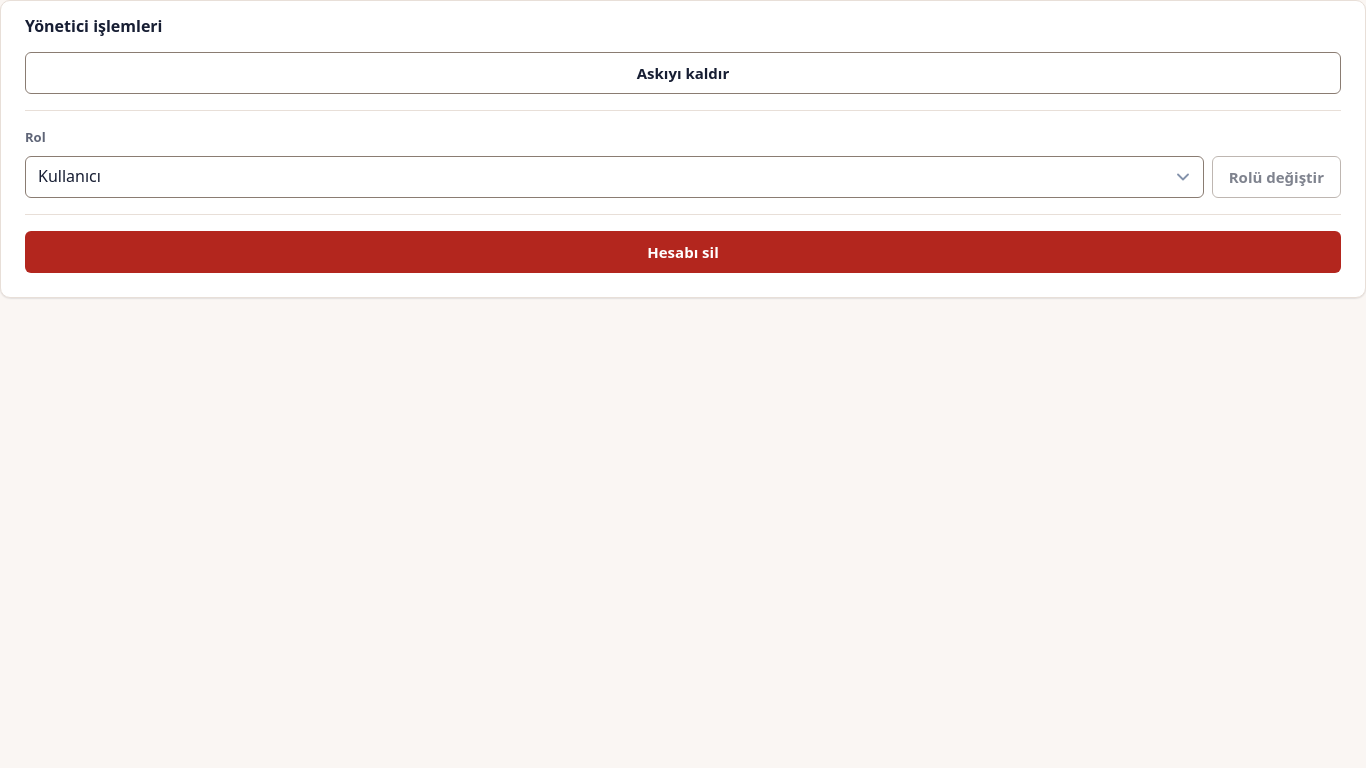
Test: UserActions › askıdaki hesap onayla geri açılır
Click the button "Askıyı kaldır": point(683, 73) [25,52,1341,94]
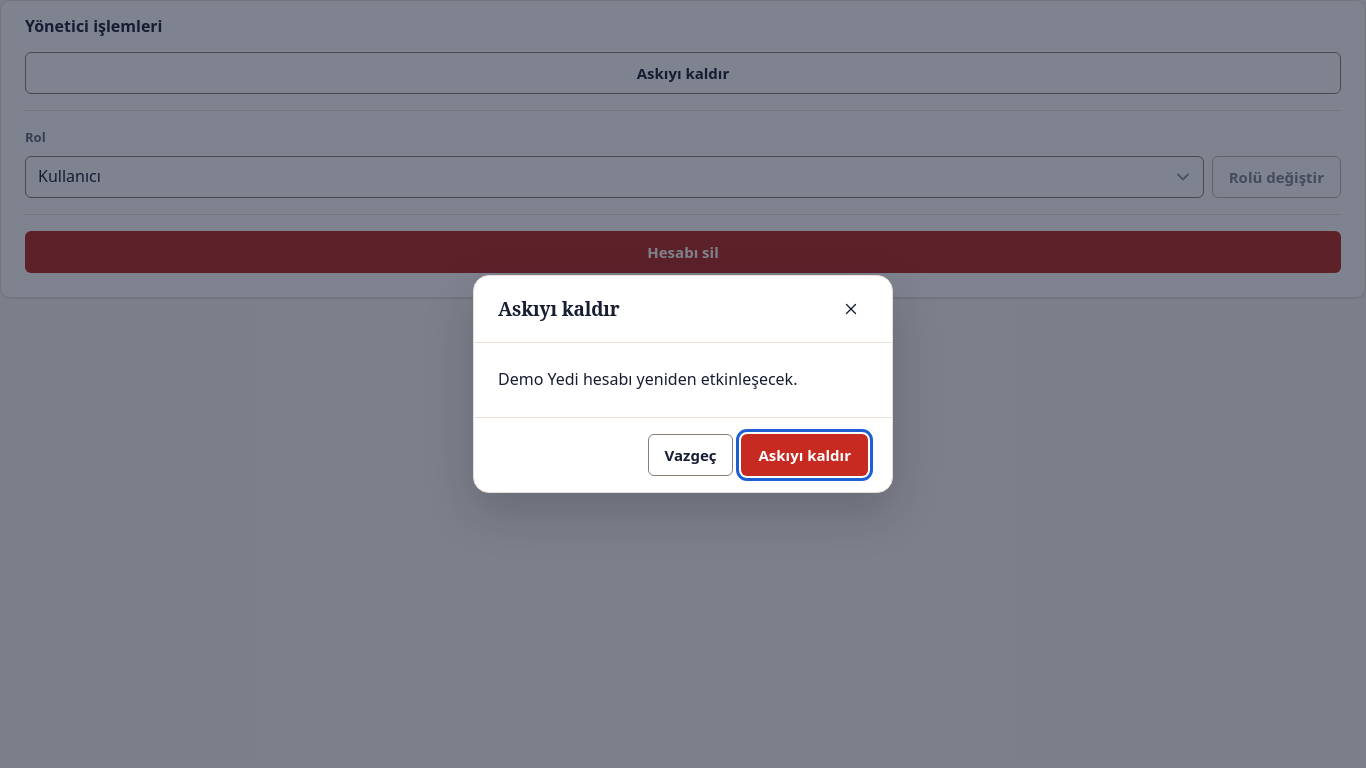
Click the button "Askıyı kaldır": point(805, 455) [742,434,868,476]
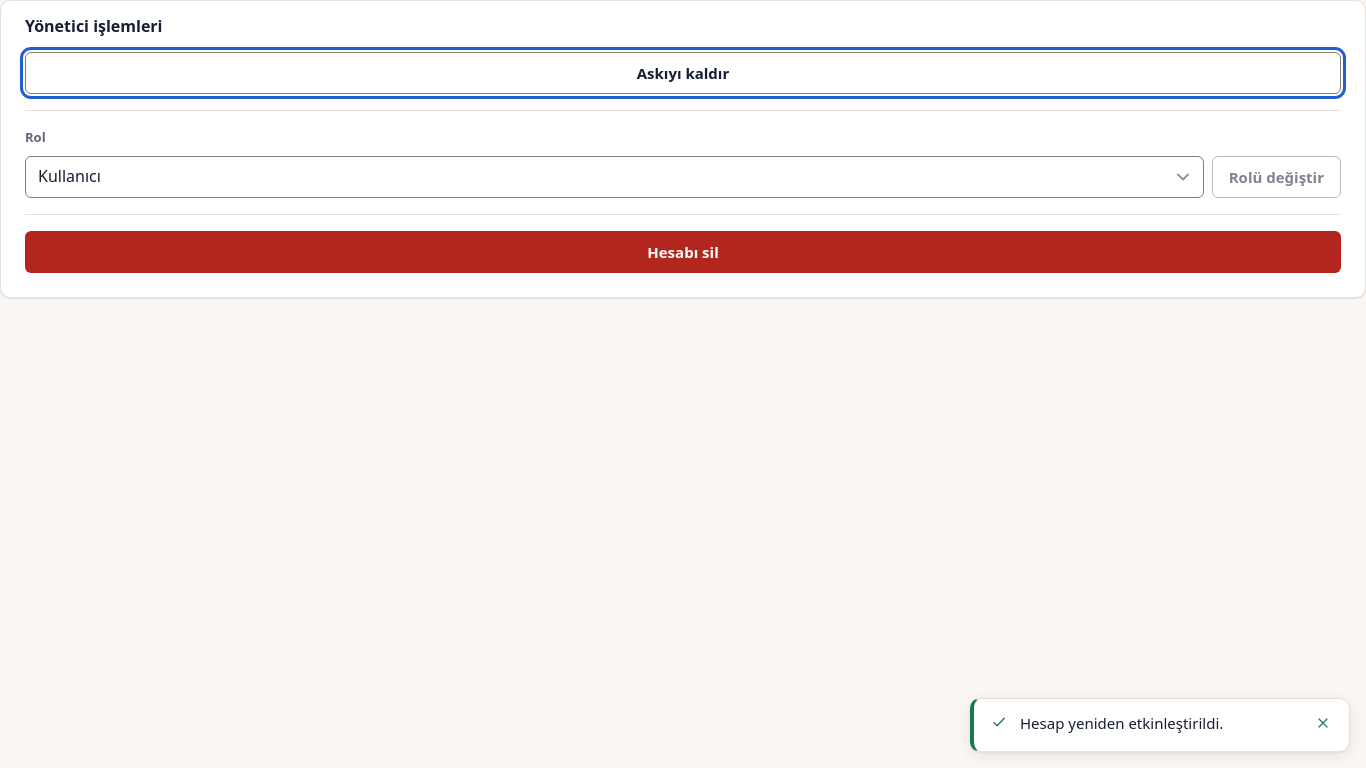
expect the text "Hesap yeniden etkinleştirildi." is shown: met, box [1020,713,1223,733]
